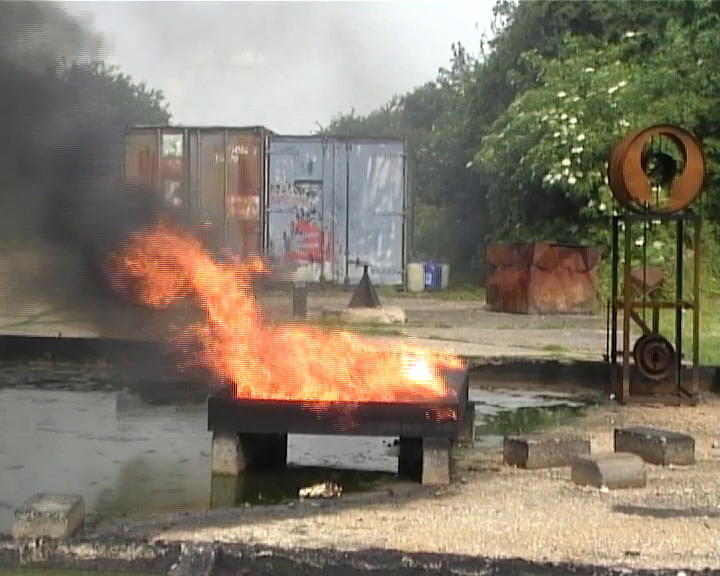fire: (133, 238, 461, 404)
